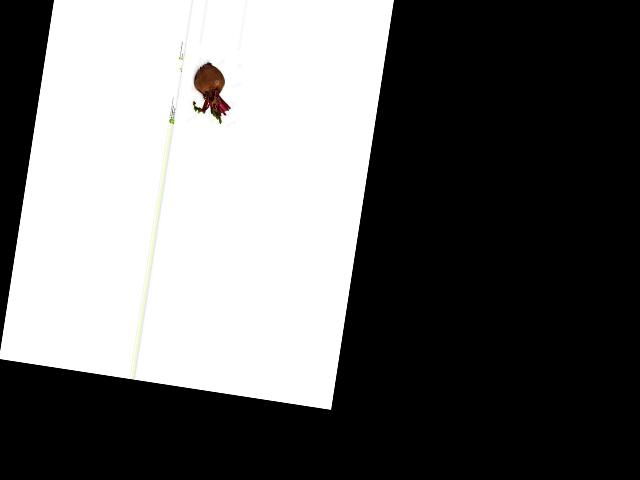beet: (189, 60, 236, 124)
